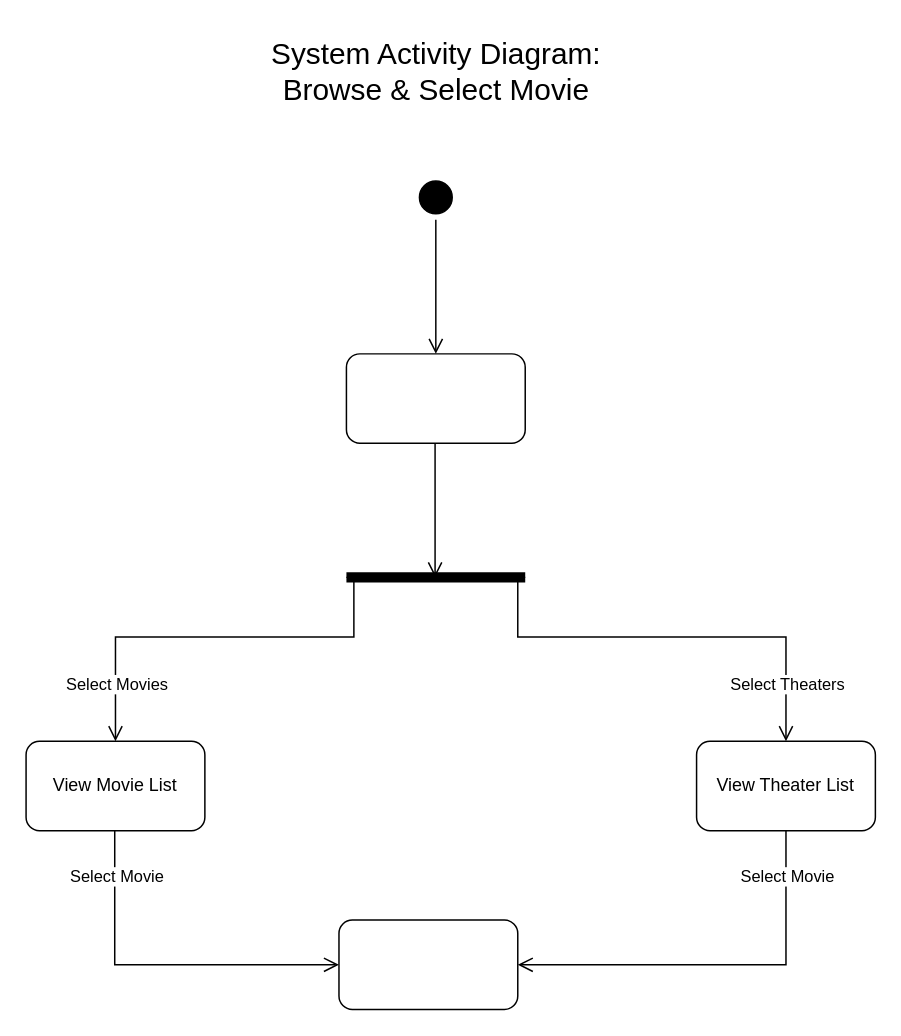
The diagram is 901 pixels wide and 1036 high, and some of its shapes have lost their labels. The centre of each missing label's shape, as x and y in pixels:
"Navigate to home page" belongs at (x=435, y=397).
"View Movie" belongs at (x=427, y=964).
